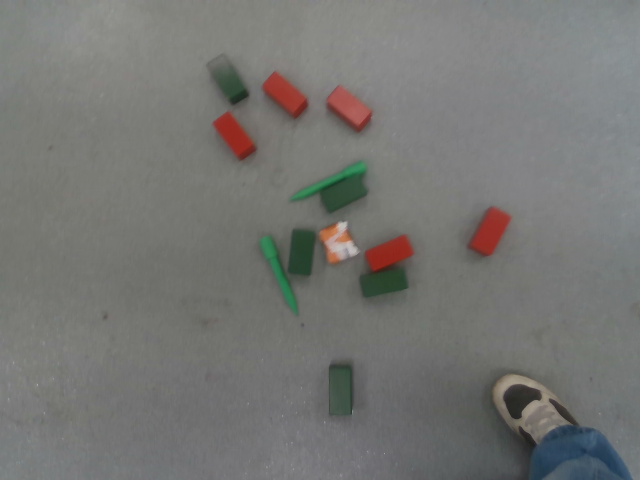Probe: (257, 234, 302, 318), (286, 159, 369, 203)
